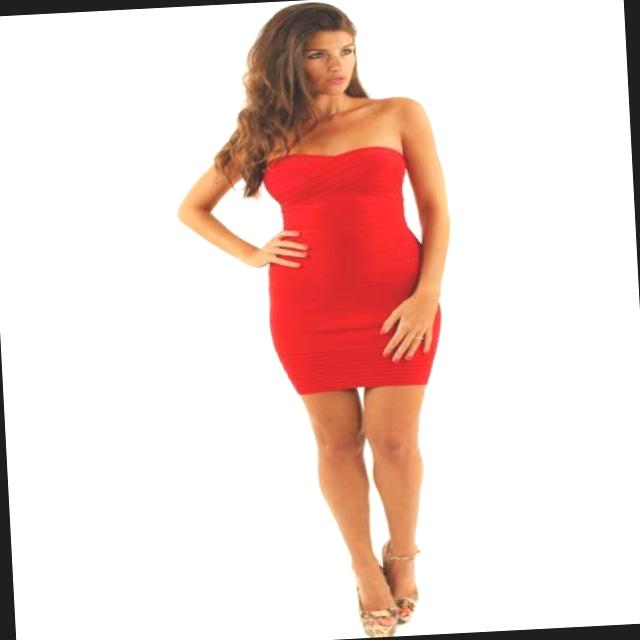dress: (262, 144, 446, 394)
